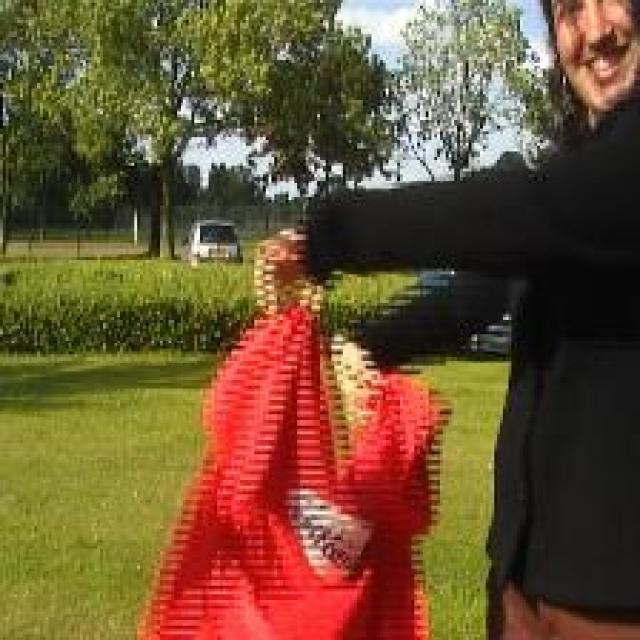other: (157, 300, 437, 629)
